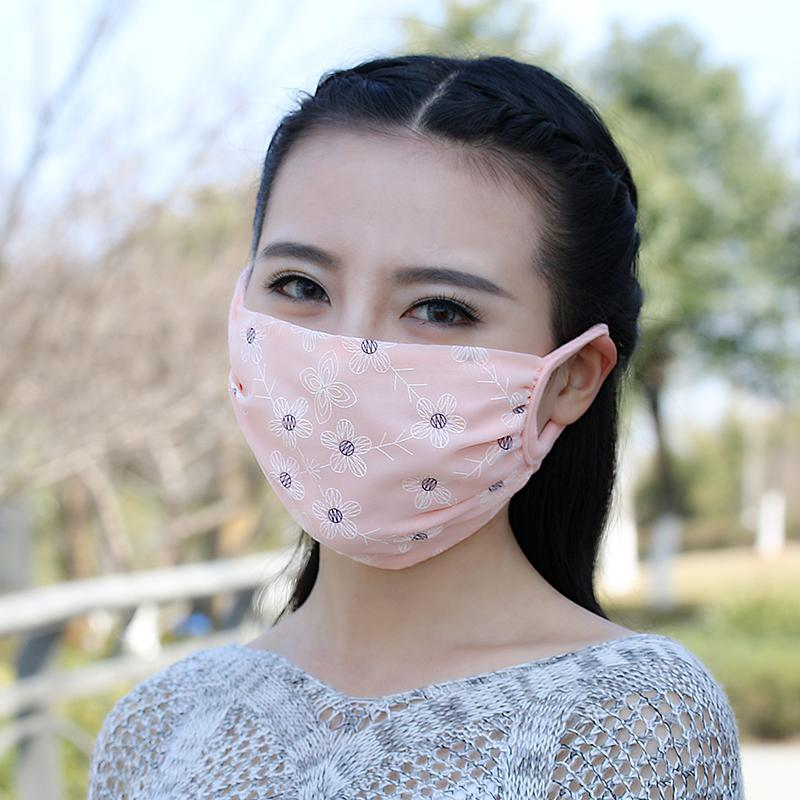OK: (234, 232, 557, 555)
